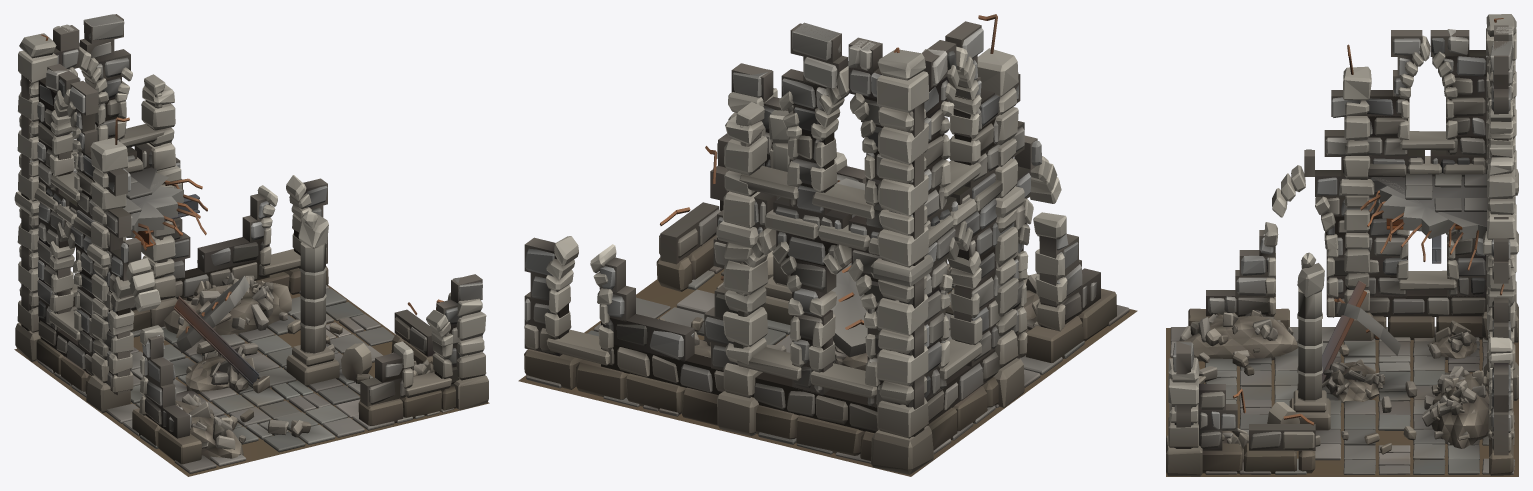
The model's file is ruins.glb.
3 renders of one model, left to right at view 1: azimuth 30°, elevation 25°; view 2: azimuth 150°, elevation 25°; view 3: azimuth 270°, elevation 25°, orthographic. The views are drawn at different scales.
Visible parts, largest first — view 1: ruins; view 2: ruins; view 3: ruins.
Part boxes in pixels (x1,y1,x2,y2): ruins: (14,14,489,476); ruins: (518,14,1137,476); ruins: (1166,14,1518,476).
Size of the model in its own units: 1 by 1 by 1.
